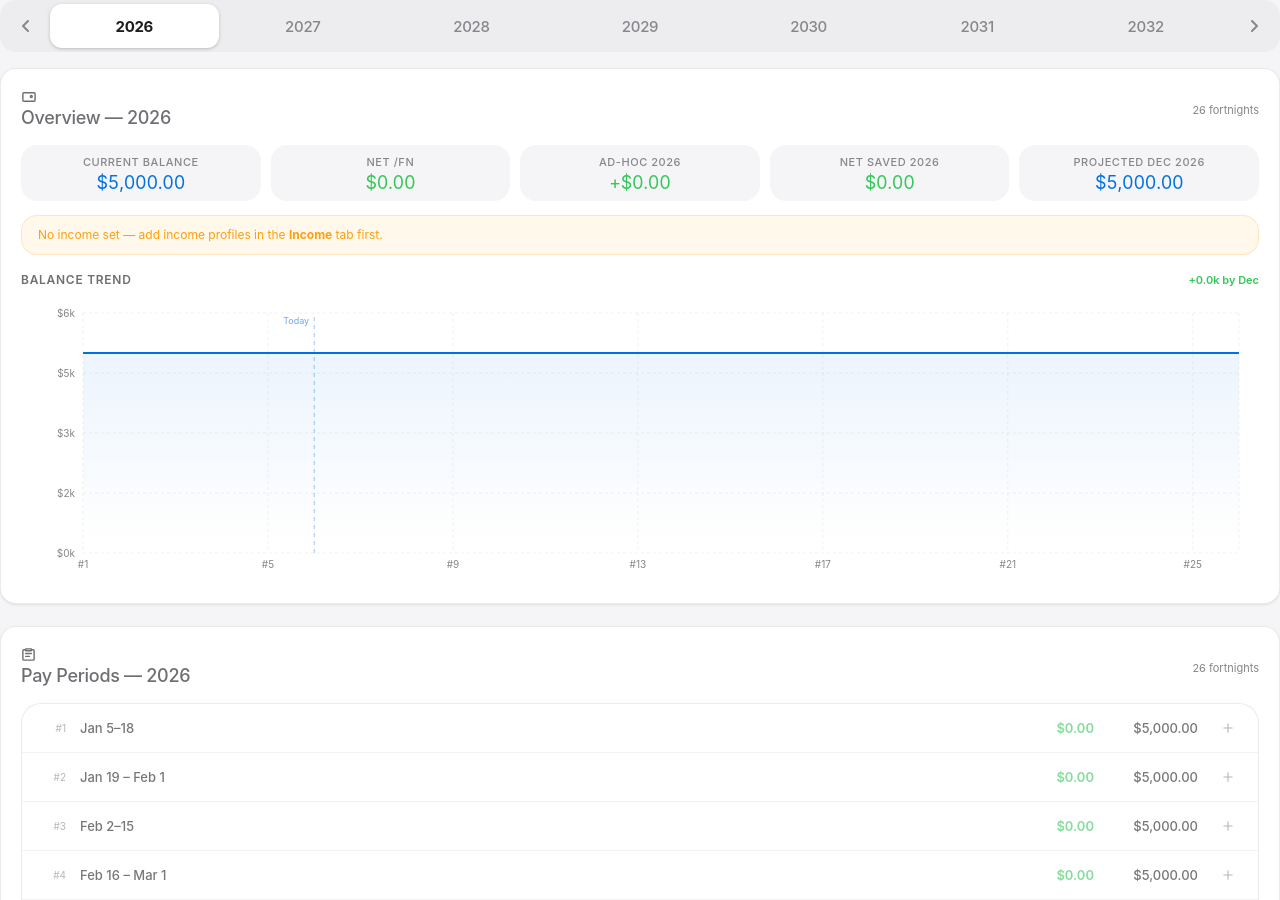
FinancialTracking — ad-hoc transaction modal › switches to income mode and shows income form
Step 1. Click the button with class "fn-add-btn" in the row of "Jan 5–18" → (1228, 728), box [1216,716,1240,740]
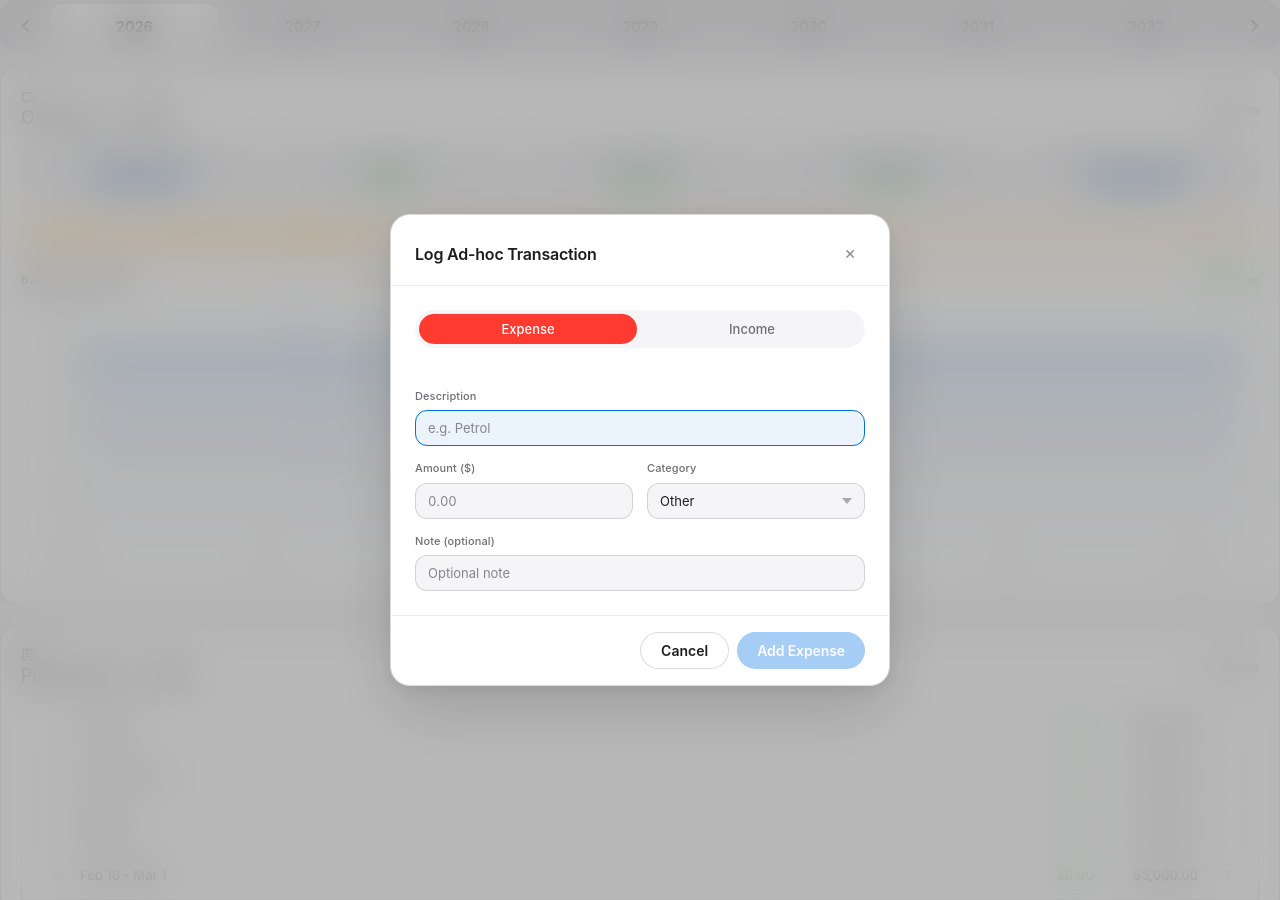
# Switch to income via toggle button
Step 2. Click the button with class "ttog-btn" showing "Income" → (752, 329), box [643,314,861,344]
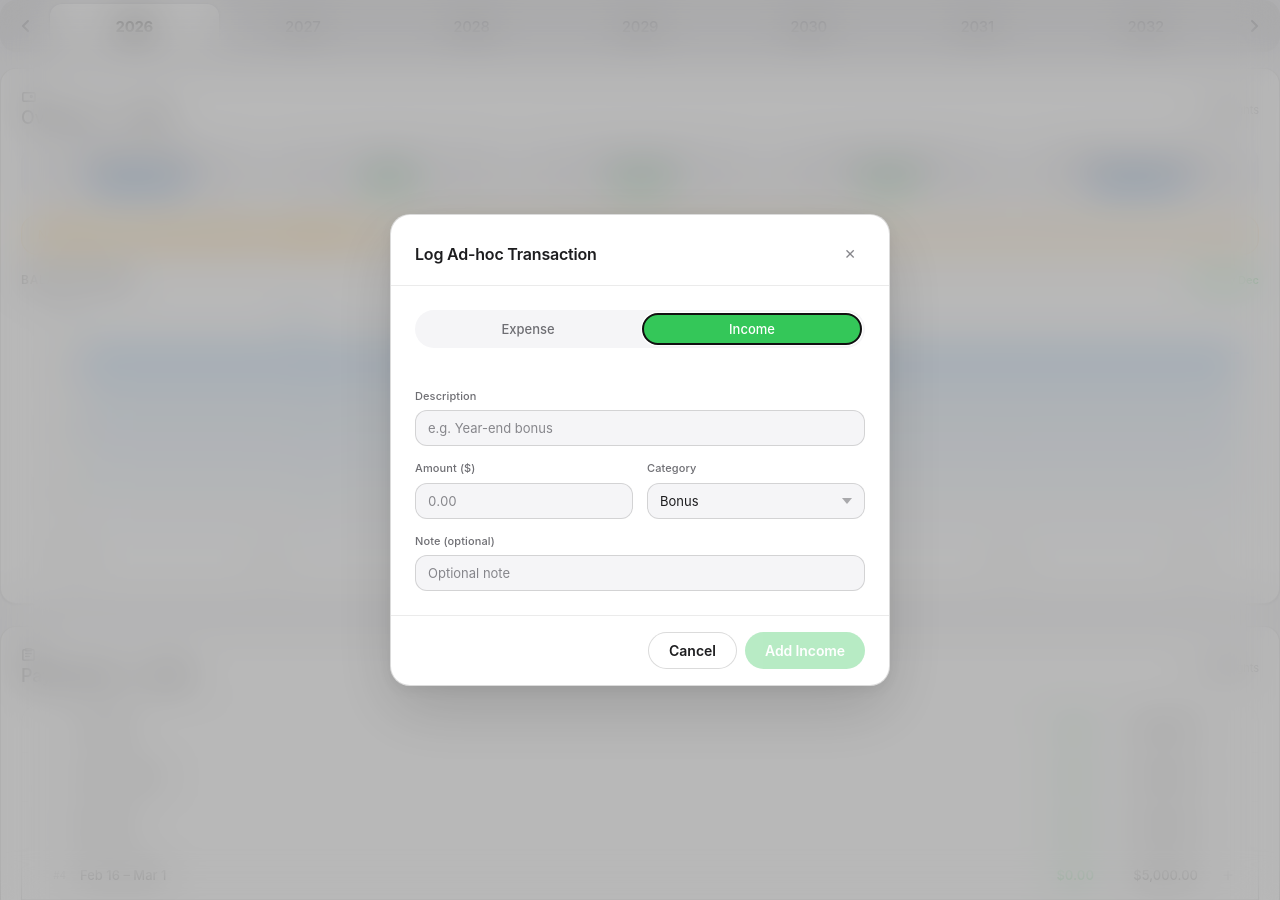
Now the field with placeholder "e.g. Year-end bonus" is shown, box [415,410,865,446]
Now the button "Add Income" is shown, box [745,632,865,669]
